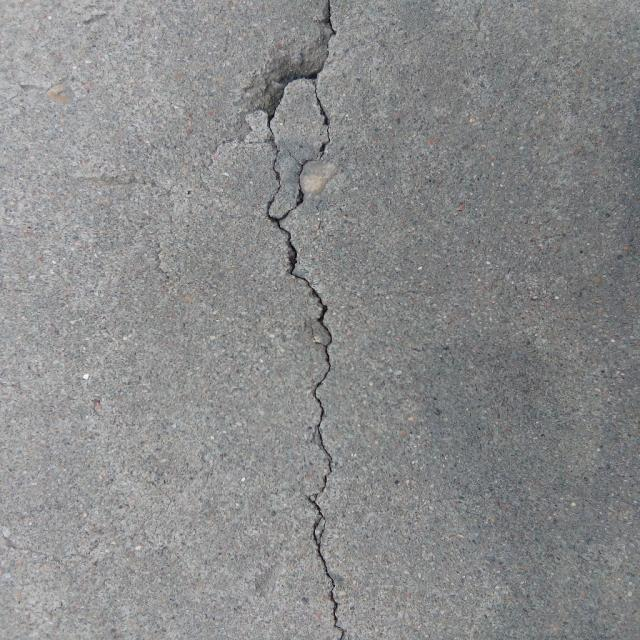cracks: (236, 5, 362, 640)
